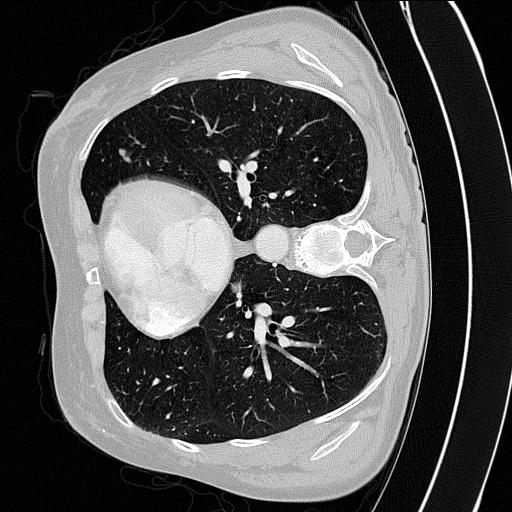nodule: (117, 148, 130, 161)
